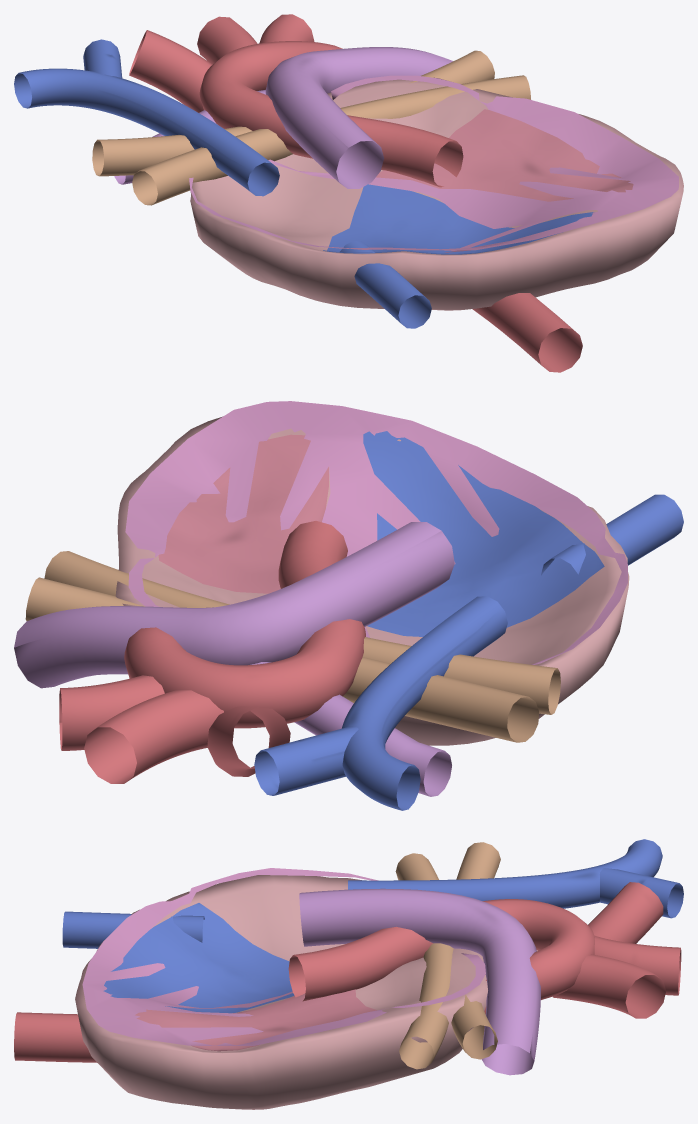
Rendered from HeartCross.fbx.
3 renders of one model, top to bottom at view 1: azimuth 30°, elevation 25°; view 2: azimuth 150°, elevation 25°; view 3: azimuth 270°, elevation 25°, orthographic. The views are drawn at different scales.
Parts seen in each view (by area): view 1: Vert; view 2: Vert; view 3: Vert.
Part boxes in pixels (x1,y1,x2,y2): Vert: (14, 14, 683, 372); Vert: (14, 401, 683, 810); Vert: (14, 839, 683, 1109).
Bounding box in the file's own units: 58.53 × 21.43 × 81.78.
